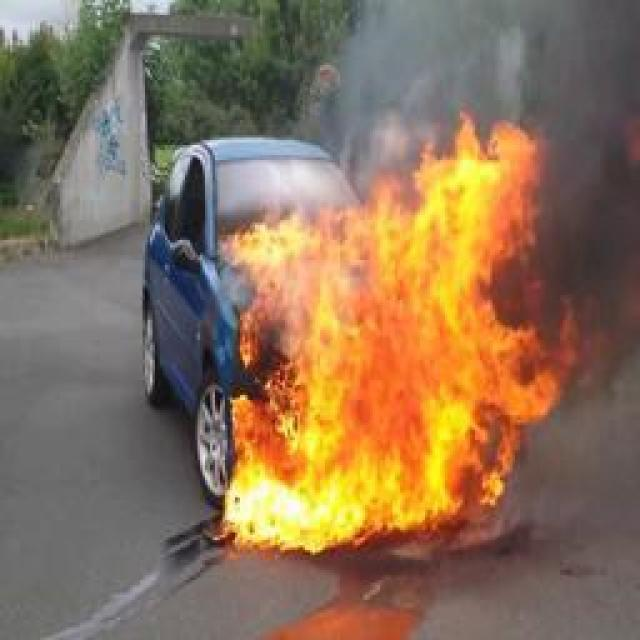Fire: (220, 106, 568, 554)
